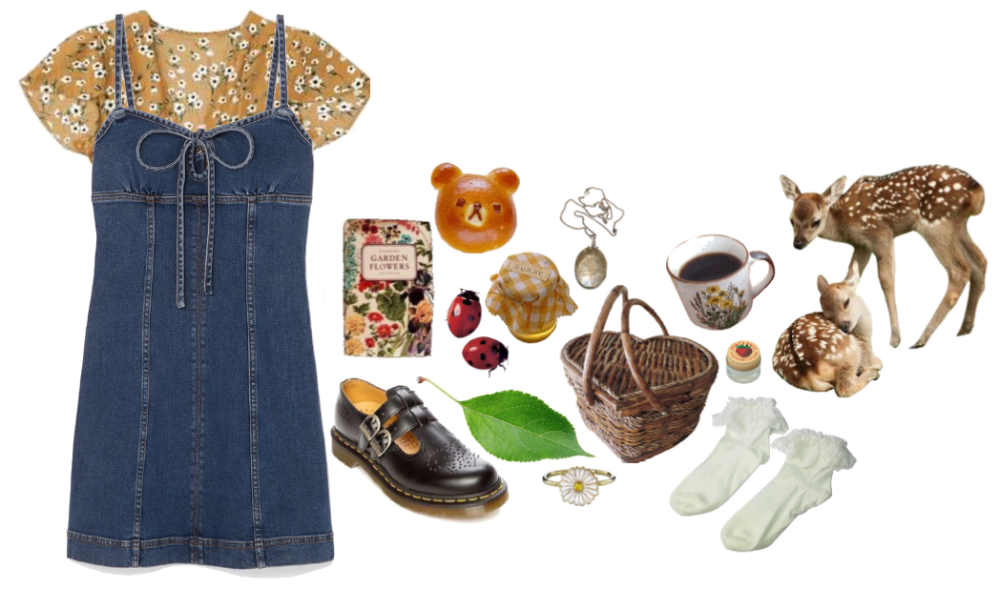аксесуары: (558, 186, 623, 293), (538, 459, 622, 504)
платье: (16, 14, 338, 568)
туфли: (329, 375, 510, 515)
